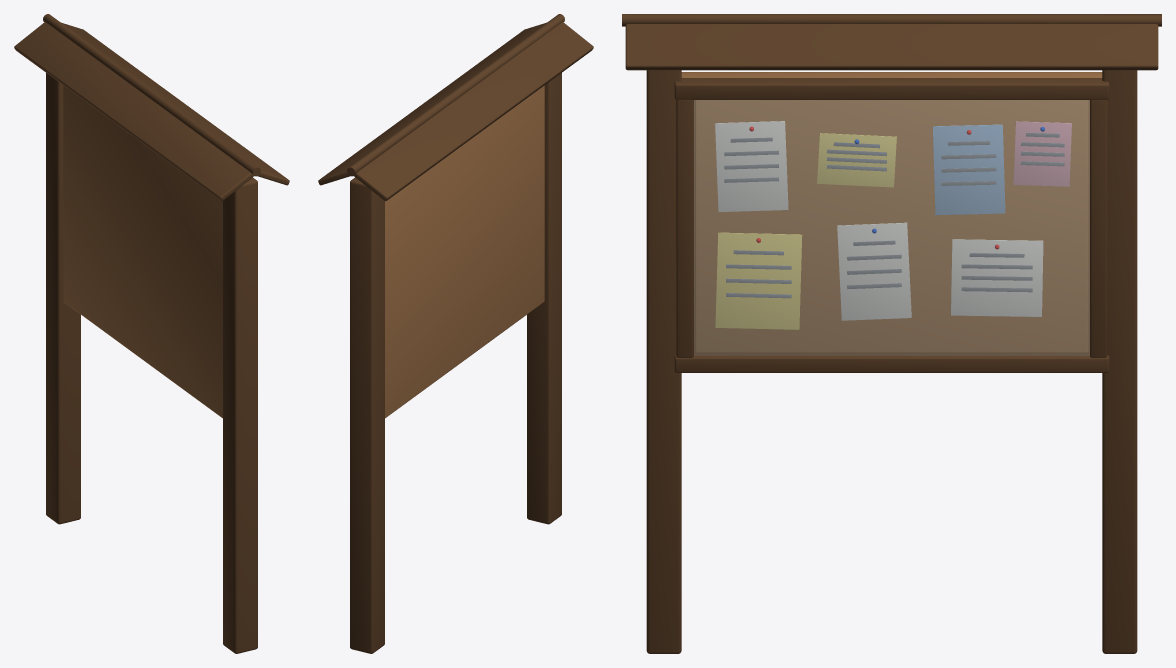
Rendered from outdoor-notice-case.glb.
The picture shows the model from 3 angles, left to right: view 1: azimuth 30°, elevation 25°; view 2: azimuth 150°, elevation 25°; view 3: azimuth 270°, elevation 25°; orthographic projection. The views are drawn at different scales.
Parts seen in each view (by area): view 1: Outdoor_Notice_Case; view 2: Outdoor_Notice_Case; view 3: Outdoor_Notice_Case.
Boxes of the visible parts, x1,y1,x2,y2 form: Outdoor_Notice_Case: [14, 14, 289, 653]; Outdoor_Notice_Case: [318, 14, 593, 653]; Outdoor_Notice_Case: [622, 14, 1161, 653].
Bounding box in the file's own units: 0.2962 × 1.99 × 1.54.
